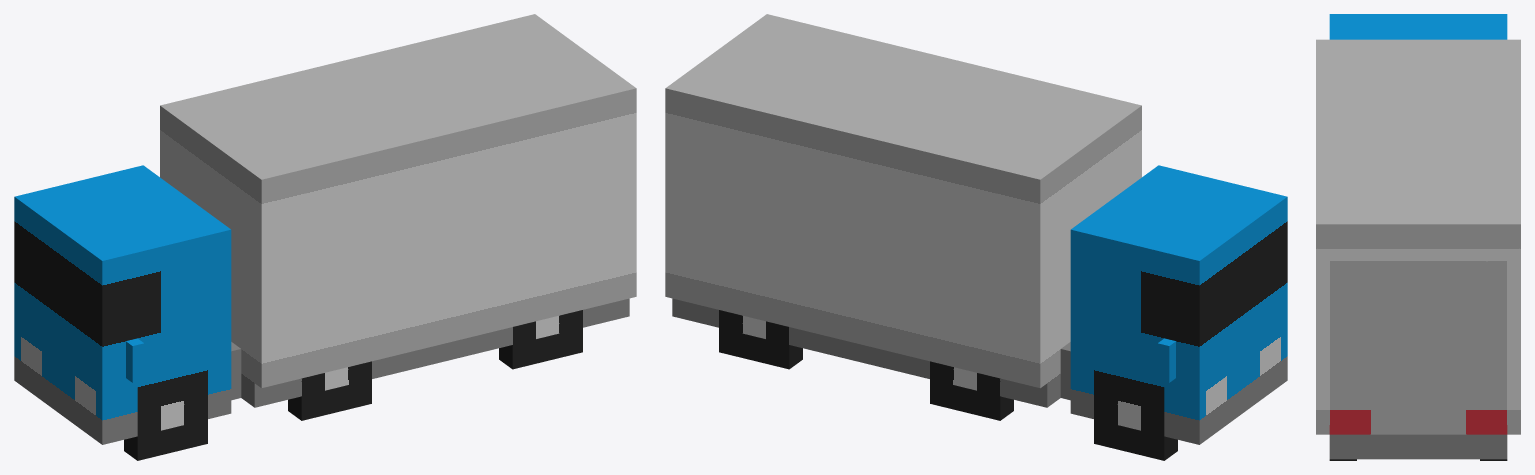
File: veh_truck_blue.dae
3 views of the same model, side by side, from view 1: azimuth 30°, elevation 25°; view 2: azimuth 150°, elevation 25°; view 3: azimuth 270°, elevation 25° (orthographic).
Parts seen in each view (by area): view 1: veh_truck_blue; view 2: veh_truck_blue; view 3: veh_truck_blue.
Part boxes in pixels (x1,y1,x2,y2): veh_truck_blue: (14, 14, 636, 460); veh_truck_blue: (665, 14, 1287, 460); veh_truck_blue: (1316, 14, 1520, 460).
Bounding box in the file's own units: 4.5 × 2.1 × 1.5.
